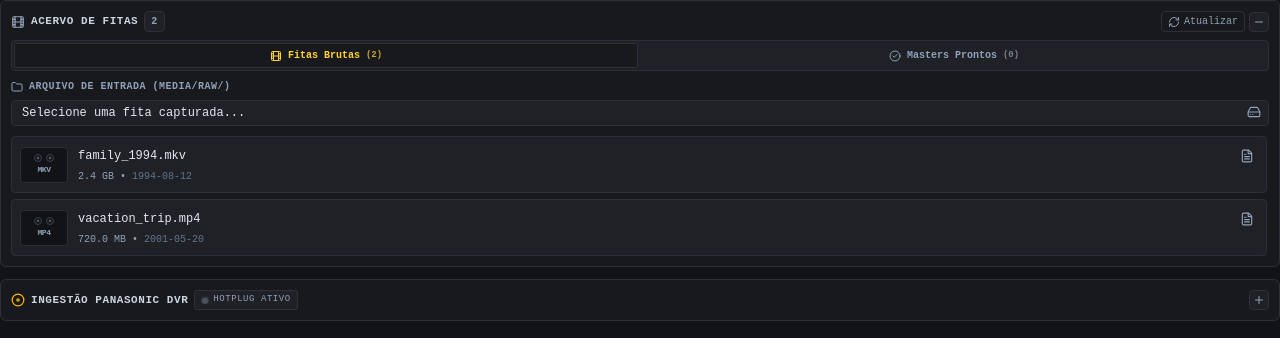
Test: FileSelector Tape Library Component › toggles expand/collapse on the library explorer
The image size is (1280, 338).
Click the button with test id "toggle-tape-library-btn" at (1259, 22), box [1249,12,1269,32]
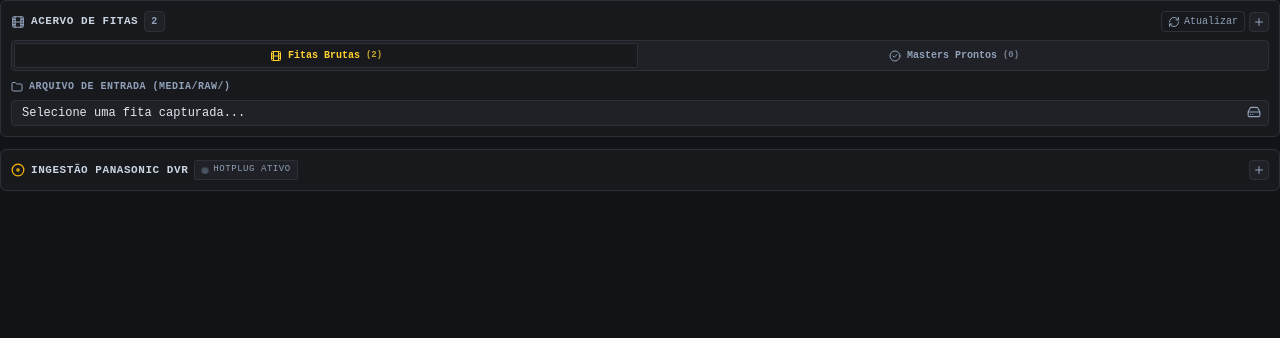
Expected: the button "family_1994.mkv" is gone
Click the button with test id "toggle-tape-library-btn" at (1259, 22), box [1249,12,1269,32]
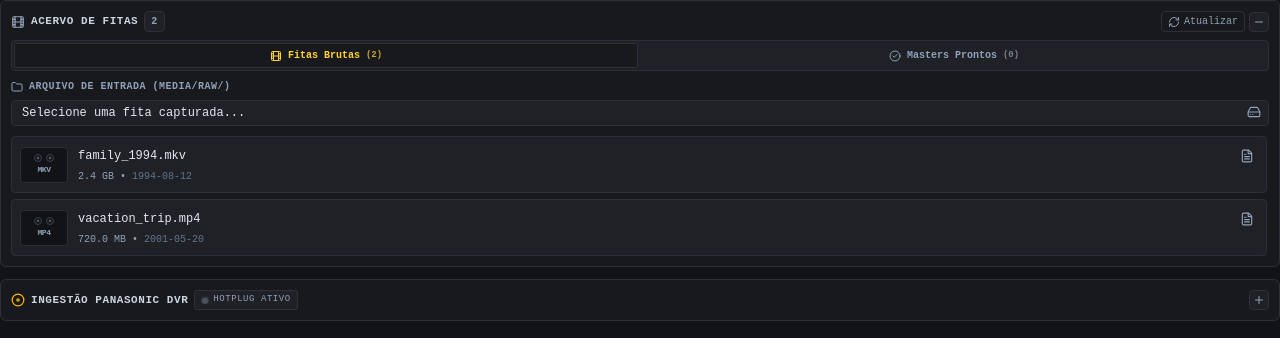
Expected: the heading "family_1994.mkv" is shown, [78,148,186,164]
